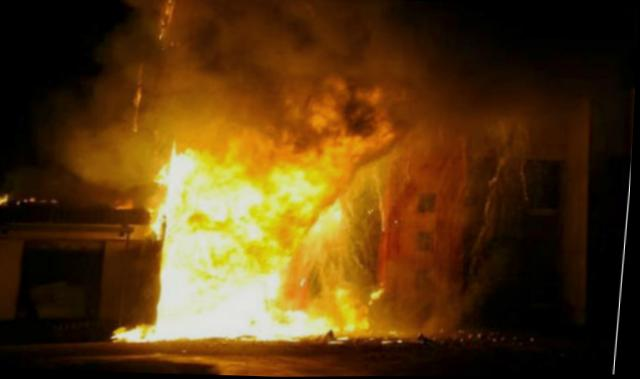fire: (227, 126, 351, 335), (165, 157, 237, 342), (120, 157, 178, 341), (334, 277, 391, 337)
smoke: (107, 0, 321, 122), (400, 190, 552, 357), (342, 1, 461, 122), (59, 124, 136, 179), (142, 115, 235, 149)
